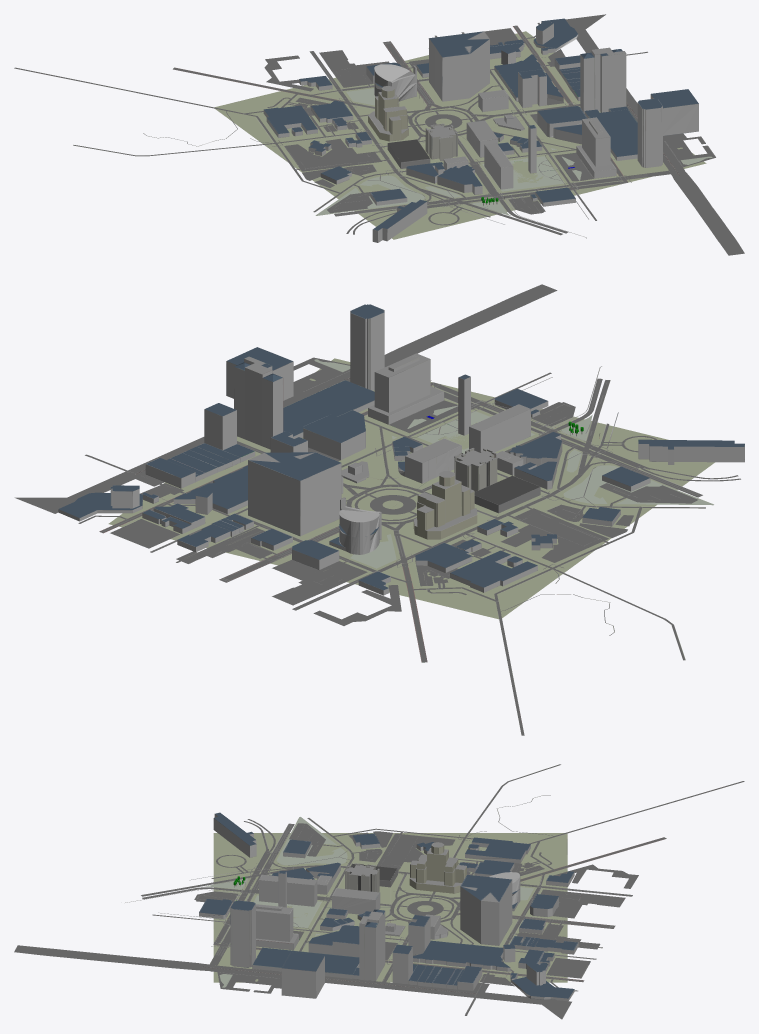
3 renders of one model, top to bottom at view 1: azimuth 30°, elevation 25°; view 2: azimuth 150°, elevation 25°; view 3: azimuth 270°, elevation 25°, orthographic. The views are drawn at different scales.
Parts seen in each view (by area): view 1: SurfaceArea658; view 2: SurfaceArea658; view 3: SurfaceArea658.
Part boxes in pixels (x1=…): SurfaceArea658: x1=14, y1=14, x2=744, y2=255; SurfaceArea658: x1=14, y1=284, x2=744, y2=735; SurfaceArea658: x1=14, y1=764, x2=744, y2=1019.
Size of the model in its own units: 1026 by 110 by 1239.
Materials: 1 (1 with a texture image).
